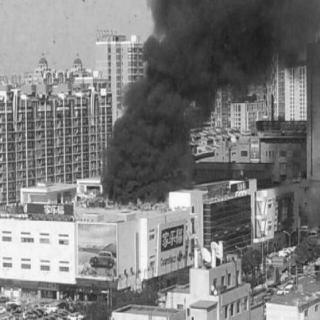Fire: (90, 185, 172, 217)
Smoke: (105, 0, 228, 196), (141, 0, 316, 92)
